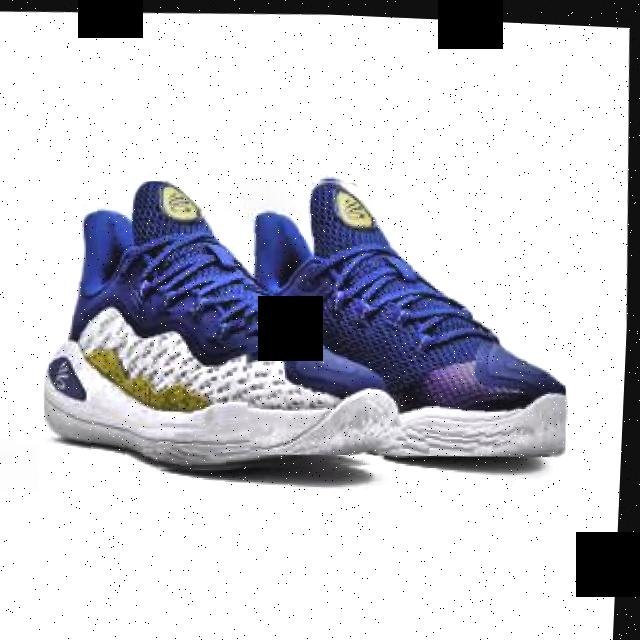shoe: (38, 167, 402, 483), (231, 162, 579, 462)
